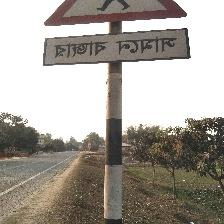Market-in-front: (43, 0, 189, 67), (43, 0, 192, 65)
